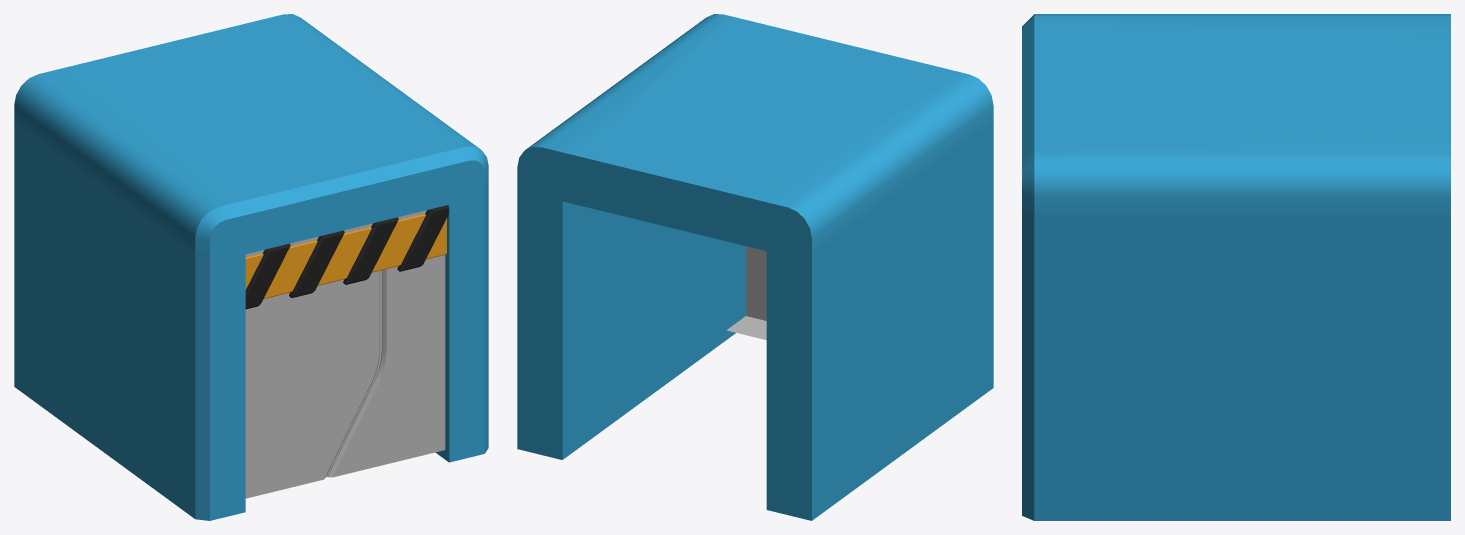
File: Arena_Door.fbx
3 renders of one model, left to right at view 1: azimuth 30°, elevation 25°; view 2: azimuth 150°, elevation 25°; view 3: azimuth 270°, elevation 25°, orthographic. The views are drawn at different scales.
Visible parts, largest first — view 1: Cube.002, Cube; view 2: Cube.002, Cube; view 3: Cube.002.
Part boxes in pixels (bbox=[...]): Cube.002: bbox=[14, 14, 488, 520]; Cube: bbox=[245, 205, 448, 498]; Cube.002: bbox=[517, 14, 993, 520]; Cube: bbox=[726, 246, 766, 340]; Cube.002: bbox=[1022, 14, 1450, 520].
Bounding box in the file's own units: 355 × 355 × 391.
